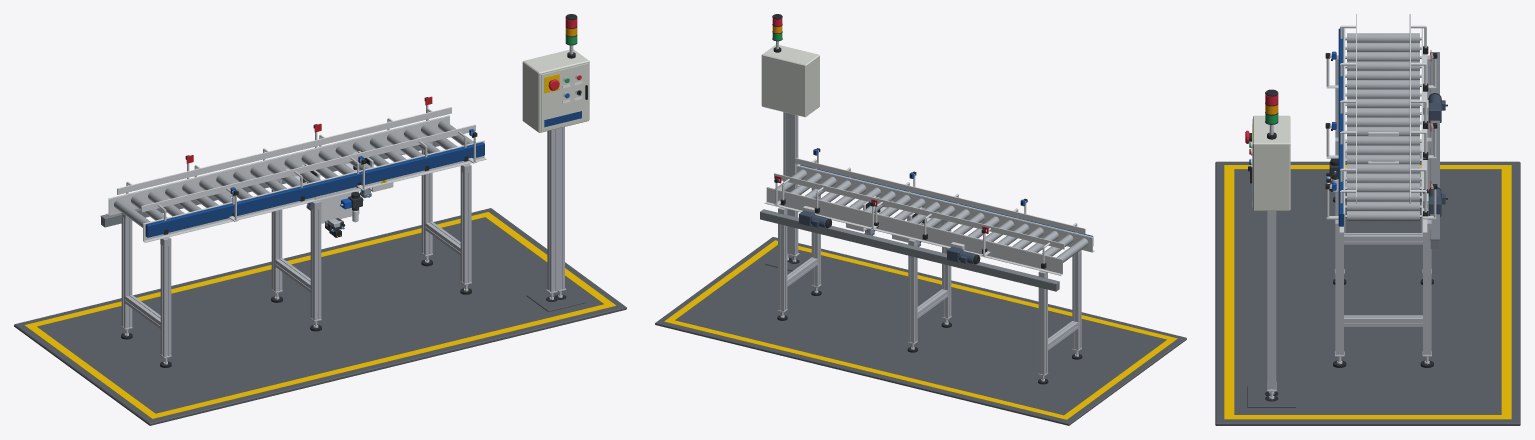
Rendered from escapement.glb.
3 views of the same model, side by side, from view 1: azimuth 30°, elevation 25°; view 2: azimuth 150°, elevation 25°; view 3: azimuth 270°, elevation 25° (orthographic). The views are drawn at different scales.
Parts seen in each view (by area): view 1: static_base, static_inox, static_alu, static_warn, rollers, static_accent, static_cabinet, static_black, static_duct; view 2: static_base, static_inox, static_alu, static_warn, rollers, static_cabinet, static_duct, static_black, static_motor; view 3: static_base, rollers, static_warn, static_alu, static_inox, static_cabinet, static_black, static_duct, static_accent, static_motor.
Boxes of the visible parts, bbox=[...] form: static_base: bbox=[14, 208, 626, 425]; static_inox: bbox=[106, 105, 486, 242]; static_alu: bbox=[121, 127, 566, 358]; static_warn: bbox=[24, 73, 616, 418]; rollers: bbox=[114, 120, 473, 227]; static_accent: bbox=[145, 111, 581, 237]; static_cabinet: bbox=[522, 49, 589, 132]; static_black: bbox=[121, 14, 587, 367]; static_duct: bbox=[100, 141, 439, 227]; static_base: bbox=[655, 237, 1186, 425]; static_inox: bbox=[764, 150, 1094, 275]; static_alu: bbox=[777, 112, 1081, 376]; static_warn: bbox=[664, 240, 1177, 419]; rollers: bbox=[775, 169, 1088, 262]; static_cabinet: bbox=[761, 44, 819, 117]; static_duct: bbox=[760, 209, 1059, 291]; static_black: bbox=[772, 14, 1082, 384]; static_motor: bbox=[799, 210, 976, 263]; static_base: bbox=[1215, 161, 1520, 425]; rollers: bbox=[1345, 33, 1421, 221]; static_warn: bbox=[1224, 124, 1511, 419]; static_alu: bbox=[1267, 55, 1431, 391]; static_inox: bbox=[1326, 14, 1436, 232]; static_cabinet: bbox=[1252, 115, 1290, 210]; static_black: bbox=[1248, 46, 1447, 401]; static_duct: bbox=[1430, 52, 1439, 248]; static_accent: bbox=[1252, 28, 1343, 226]; static_motor: bbox=[1428, 94, 1445, 216].
Bounding box in the file's own units: 2.8 × 1.58 × 1.38.
